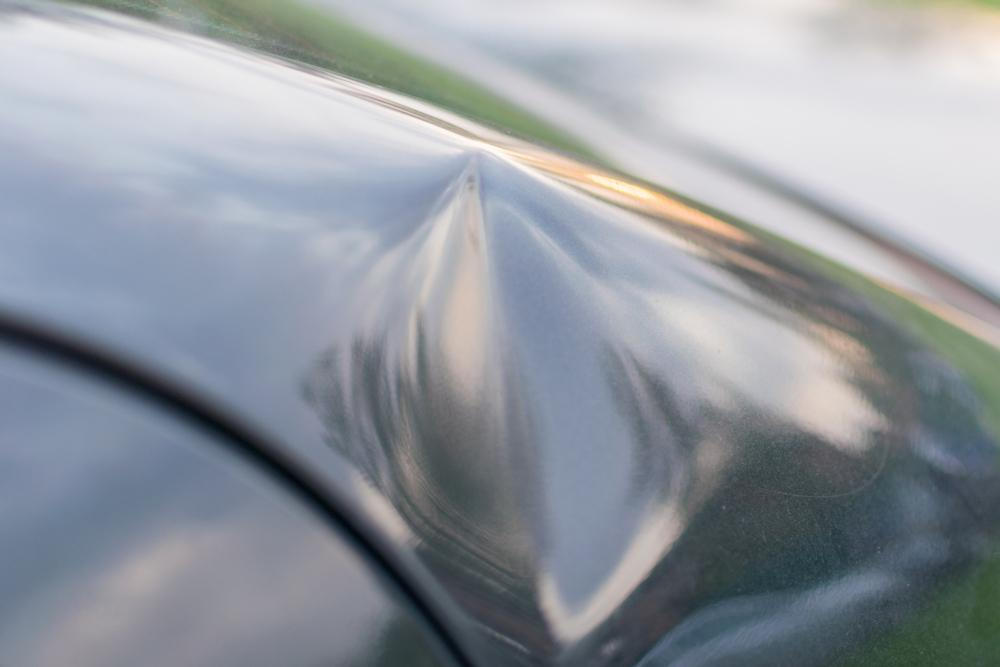dent: (346, 152, 692, 648)
